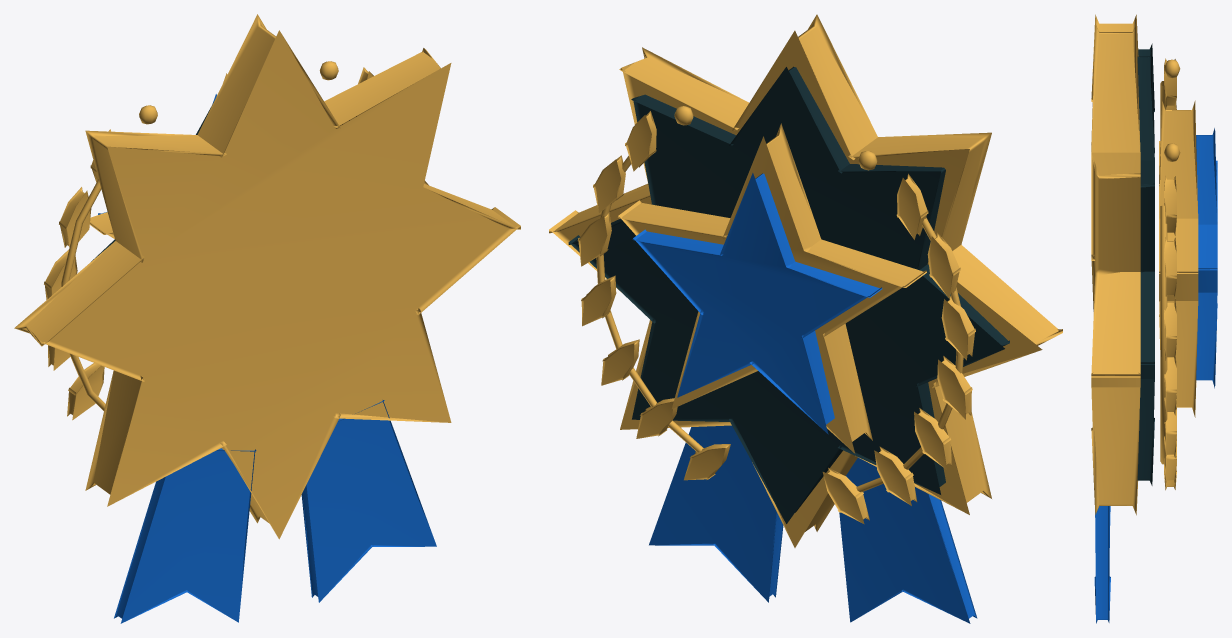
File: chess.insignia.star-pawn.glb
The picture shows the model from 3 angles, left to right: view 1: azimuth 30°, elevation 25°; view 2: azimuth 150°, elevation 25°; view 3: azimuth 270°, elevation 25°; orthographic projection. The views are drawn at different scales.
Parts seen in each view (by area): view 1: cast_medal_rim, ribbon_tail.001, ribbon_tail, laurel_stem.001, laurel_leaf.009, laurel_leaf.012; view 2: recessed_enamel, cast_medal_rim, faceted_symbol_enamel, raised_symbol_setting, ribbon_tail.001, ribbon_tail, laurel_leaf.007, laurel_leaf.008, laurel_leaf.009, laurel_leaf.010, laurel_stem, laurel_leaf.012 (+10 smaller); view 3: cast_medal_rim, raised_symbol_setting, recessed_enamel, faceted_symbol_enamel, ribbon_tail, laurel_stem, laurel_leaf.005, laurel_leaf.004, laurel_leaf.006, laurel_leaf.003, laurel_leaf.002, laurel_leaf.013 (+3 smaller).
Boxes of the visible parts, box(x1,y1,x2,y2) form: cast_medal_rim: box(14, 14, 520, 539); ribbon_tail.001: box(114, 448, 256, 623); ribbon_tail: box(301, 400, 436, 602); laurel_stem.001: box(61, 179, 105, 410); laurel_leaf.009: box(67, 363, 104, 420); laurel_leaf.012: box(59, 187, 91, 247); recessed_enamel: box(568, 66, 1009, 523); cast_medal_rim: box(549, 14, 1062, 547); faceted_symbol_enamel: box(632, 173, 882, 434); raised_symbol_setting: box(618, 123, 926, 453); ribbon_tail.001: box(839, 457, 977, 623); ribbon_tail: box(649, 425, 783, 602); laurel_leaf.007: box(822, 467, 869, 524); laurel_leaf.008: box(874, 446, 917, 505); laurel_leaf.009: box(914, 408, 952, 469); laurel_leaf.010: box(937, 356, 972, 419); laurel_stem: box(596, 156, 703, 452); laurel_leaf.012: box(927, 232, 960, 298); cast_medal_rim: box(1091, 14, 1140, 515); raised_symbol_setting: box(1159, 100, 1198, 417); recessed_enamel: box(1137, 43, 1154, 485); faceted_symbol_enamel: box(1196, 128, 1217, 388); ribbon_tail: box(1094, 506, 1110, 623); laurel_stem: box(1160, 205, 1167, 464); laurel_leaf.005: box(1164, 237, 1176, 298); laurel_leaf.004: box(1164, 299, 1176, 360); laurel_leaf.006: box(1164, 176, 1176, 235); laurel_leaf.003: box(1164, 357, 1176, 415); laurel_leaf.002: box(1164, 405, 1176, 458); laurel_leaf.013: box(1164, 58, 1176, 108).
Size of the model in its own units: 0.1334 by 0.1539 by 0.0318.
